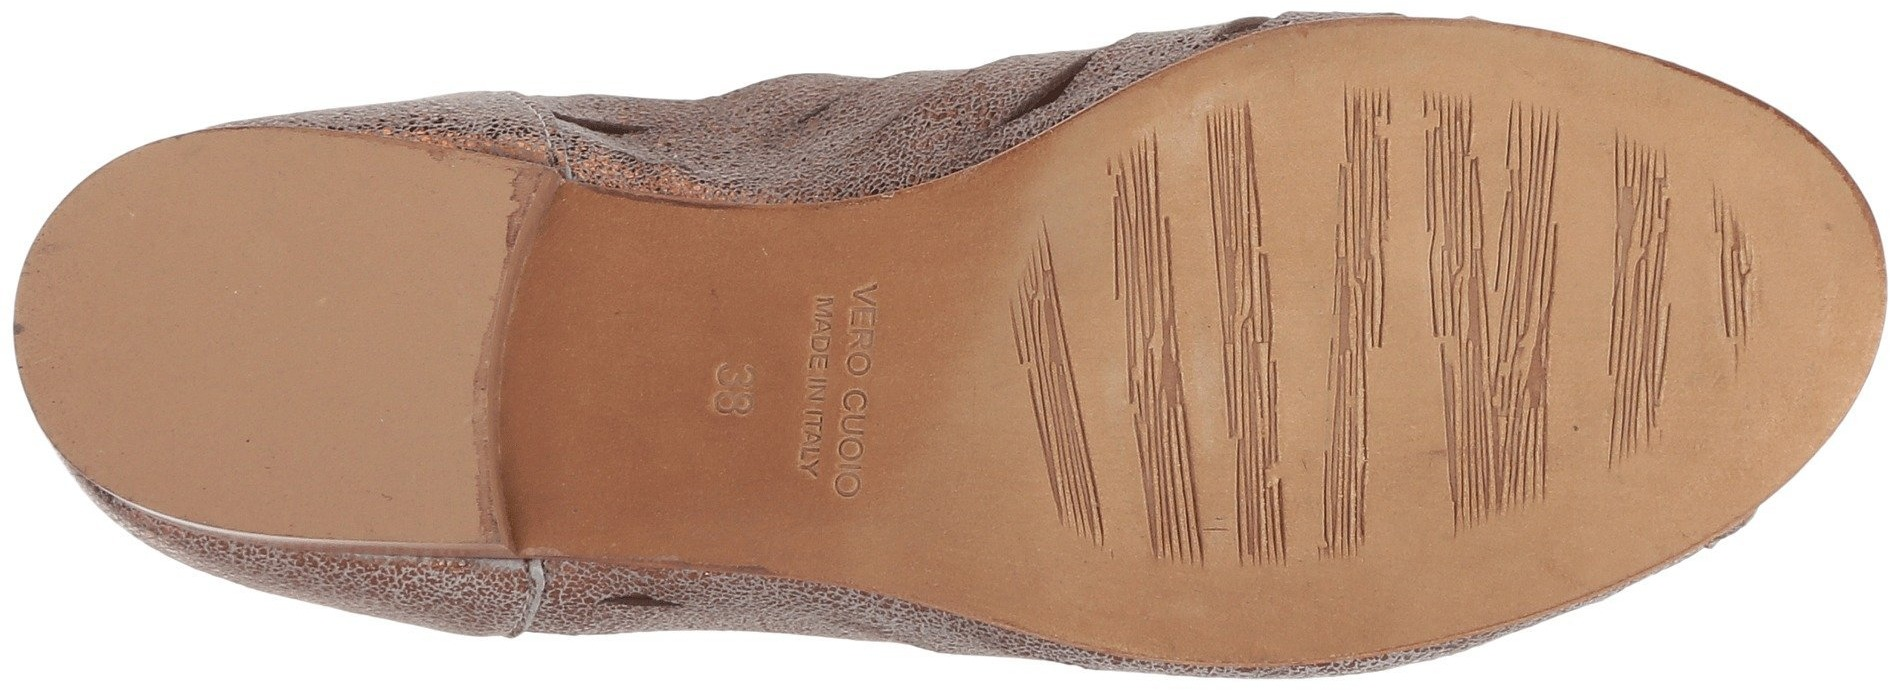other: (271, 152, 466, 359), (82, 201, 256, 352), (182, 363, 336, 522), (337, 400, 479, 534), (52, 362, 168, 460)
